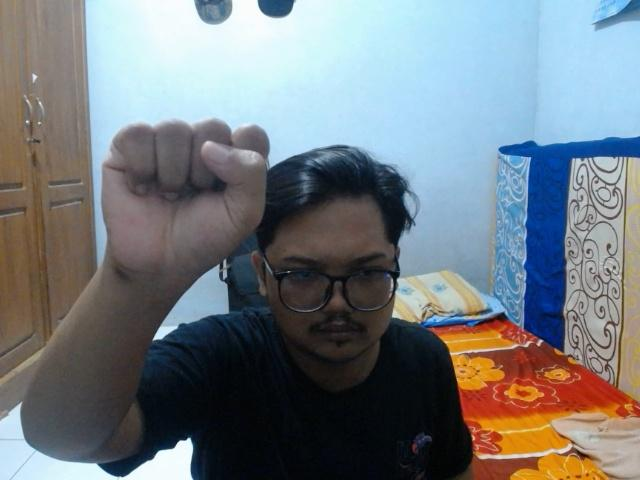Grab: (97, 117, 272, 287)
